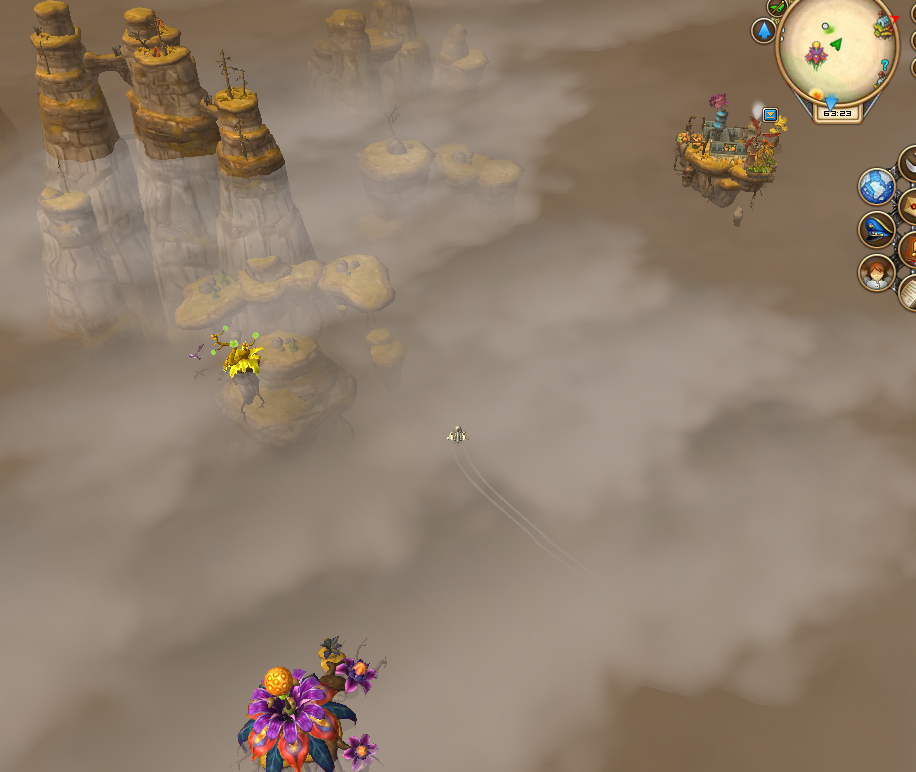dandelion-full: (209, 321, 268, 413)
